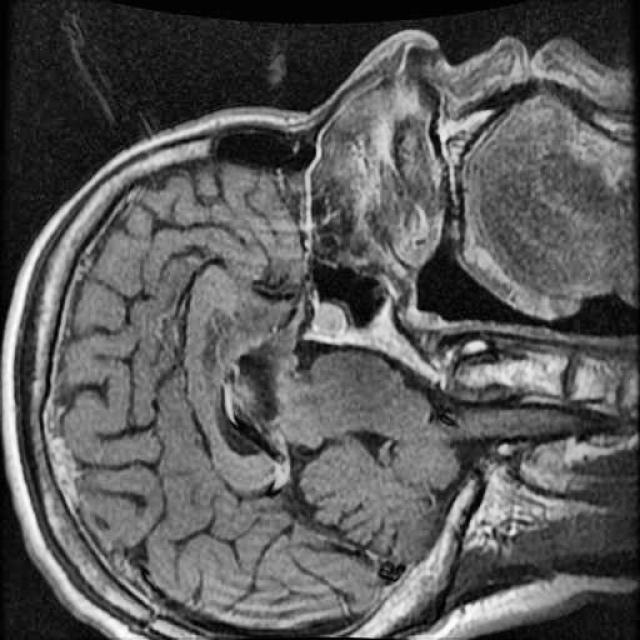Tumor: (302, 291, 356, 346)
